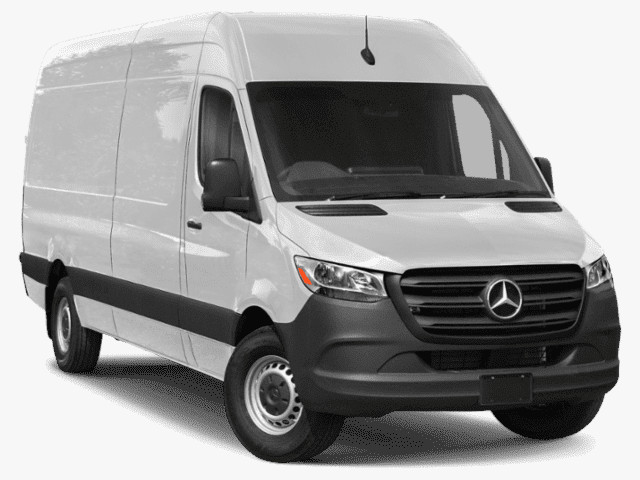van: (17, 11, 623, 466)
